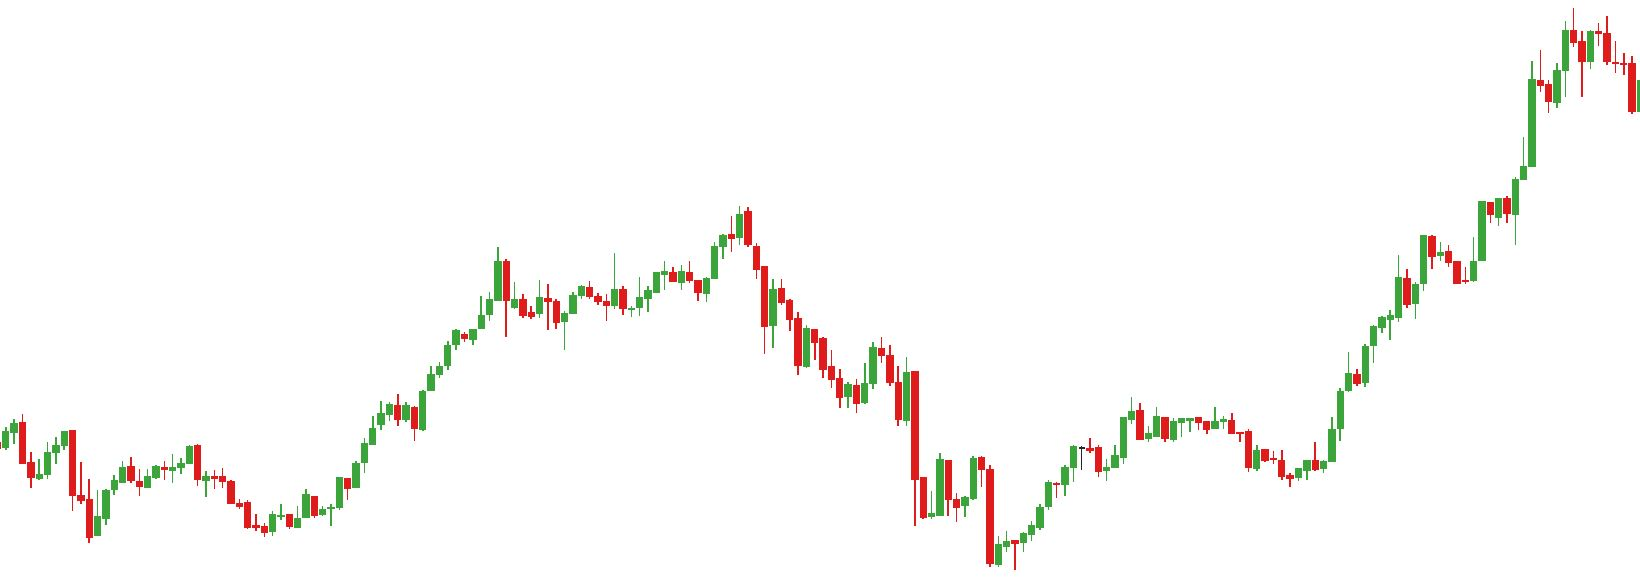sell: (1537, 8, 1586, 101)
